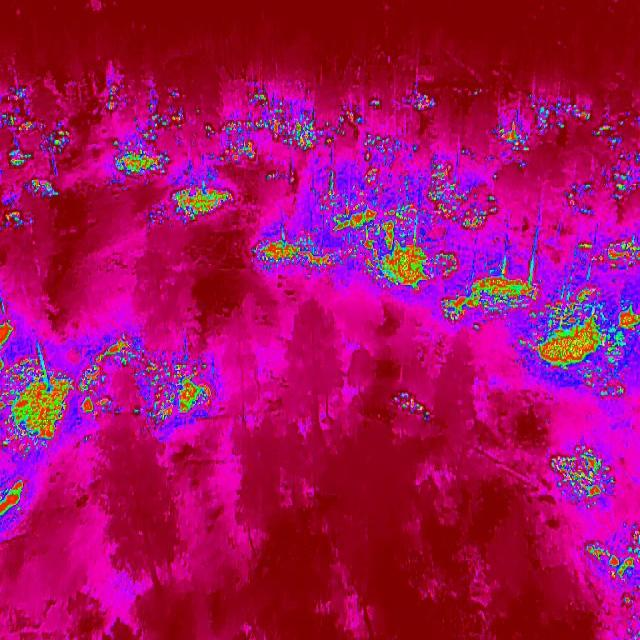fire: (256, 144, 540, 338), (485, 88, 640, 222), (0, 297, 70, 538), (74, 331, 225, 429), (206, 89, 352, 182), (0, 82, 83, 244), (100, 76, 188, 186), (582, 520, 640, 640), (561, 222, 640, 310), (158, 166, 242, 243), (529, 310, 614, 378), (547, 440, 615, 506), (390, 386, 434, 426), (586, 374, 629, 404), (405, 85, 440, 113), (358, 125, 404, 146), (614, 302, 640, 336), (462, 81, 492, 101), (364, 96, 386, 116)
